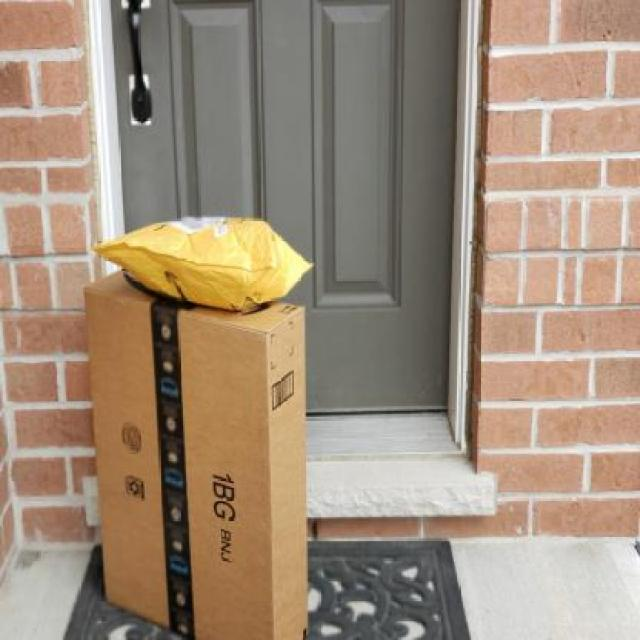cardboxes: (83, 263, 309, 640)
